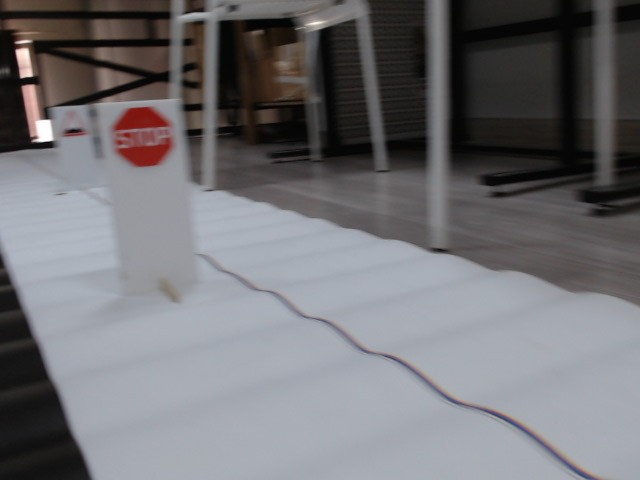Stop: (112, 107, 173, 166)
